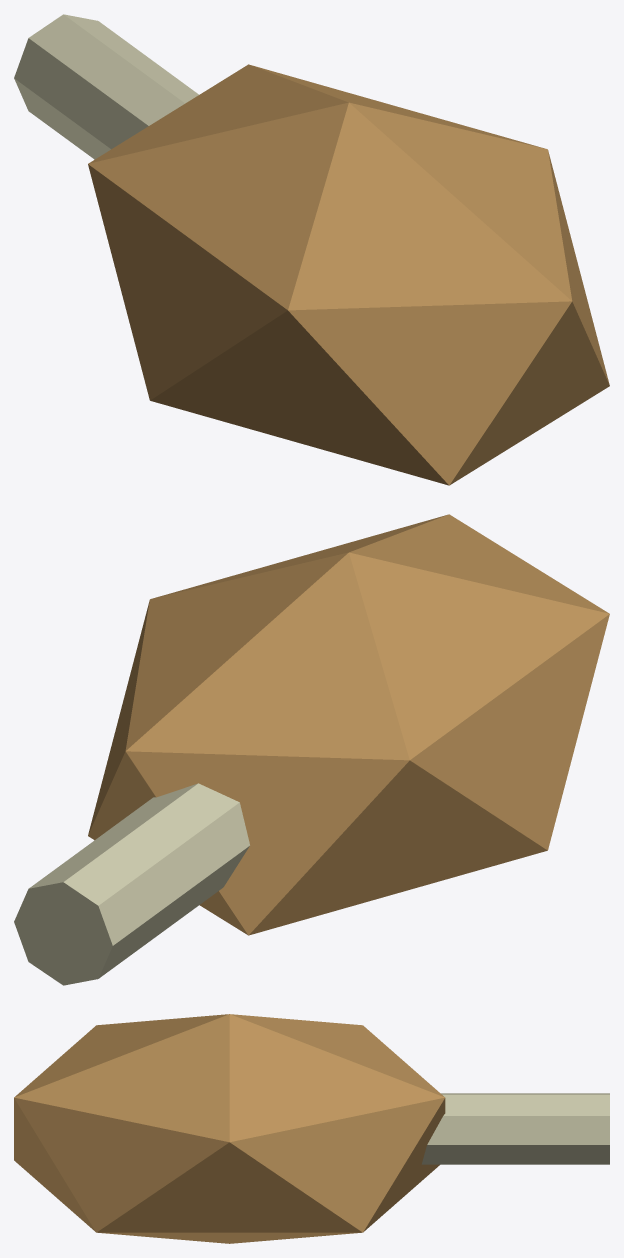
The model's file is SH10_Health_Chicken.fbx.
The picture shows the model from 3 angles, top to bottom: view 1: azimuth 30°, elevation 25°; view 2: azimuth 150°, elevation 25°; view 3: azimuth 270°, elevation 25°; orthographic projection. The views are drawn at different scales.
Parts seen in each view (by area): view 1: SH10_Health_Chicken; view 2: SH10_Health_Chicken; view 3: SH10_Health_Chicken.
Part boxes in pixels (box(x1,y1,x2,y2)): SH10_Health_Chicken: box(14, 14, 609, 485); SH10_Health_Chicken: box(14, 514, 609, 985); SH10_Health_Chicken: box(14, 1014, 609, 1243).
Bounding box in the file's own units: 48.3 × 40 × 94.03.
